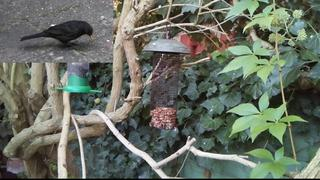blackbird: (20, 20, 93, 49)
